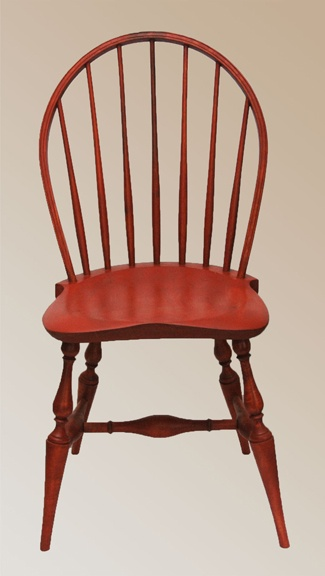obstacle: (39, 32, 288, 550)
